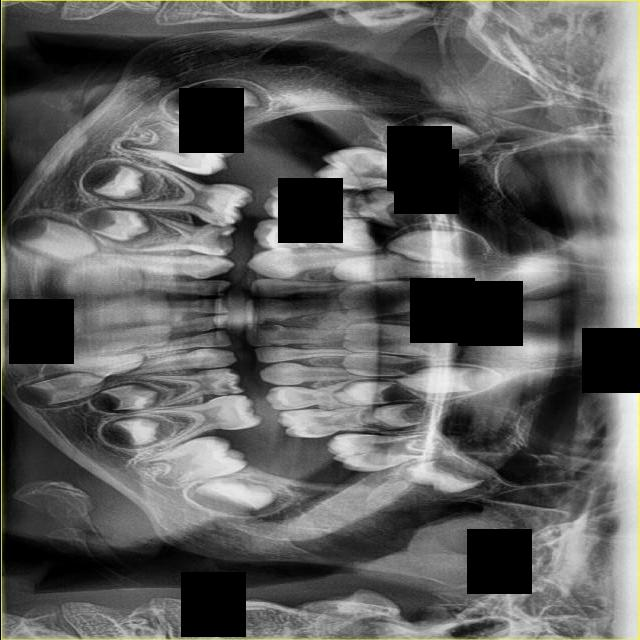Sterngold Implant: (200, 219, 234, 255), (217, 381, 239, 397), (264, 218, 293, 230), (258, 314, 281, 322), (258, 324, 278, 332), (207, 288, 223, 296), (210, 218, 228, 225), (268, 343, 282, 346)
